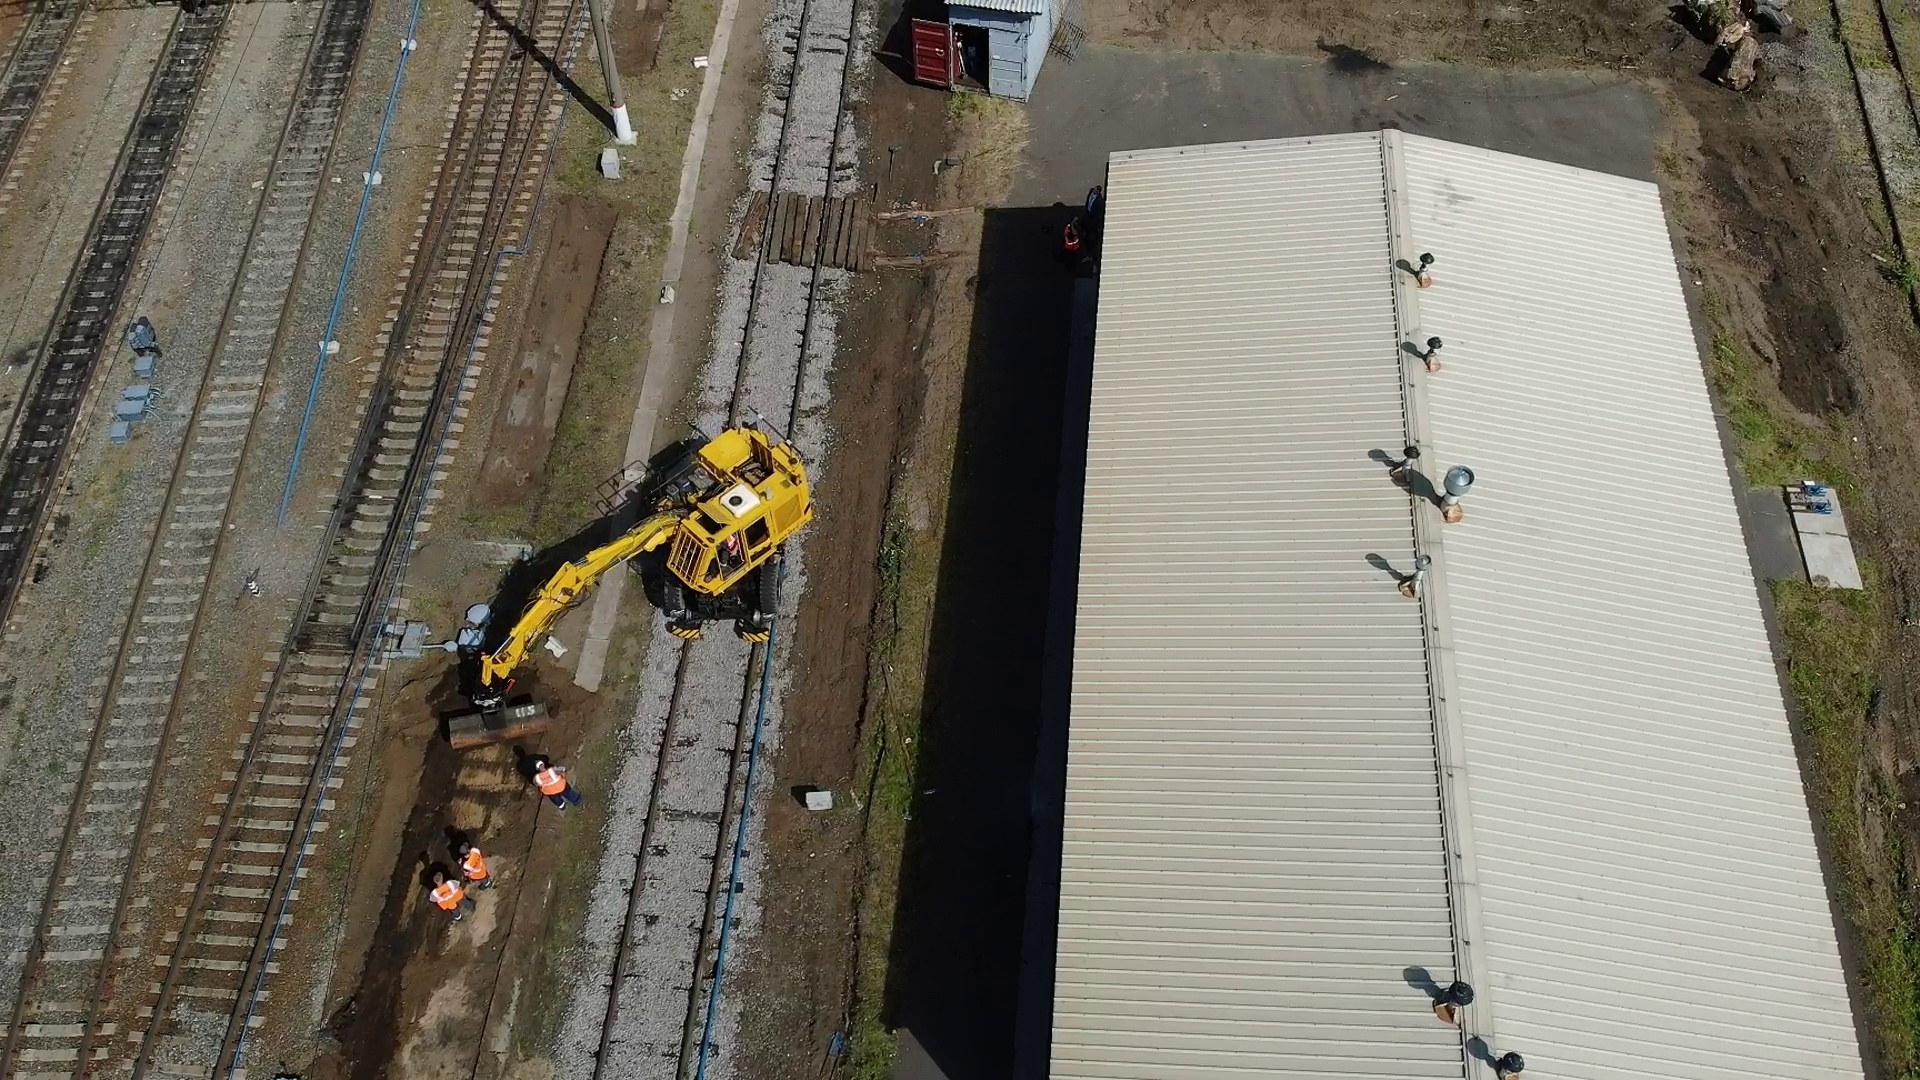kjtv: (603, 409, 804, 634)
